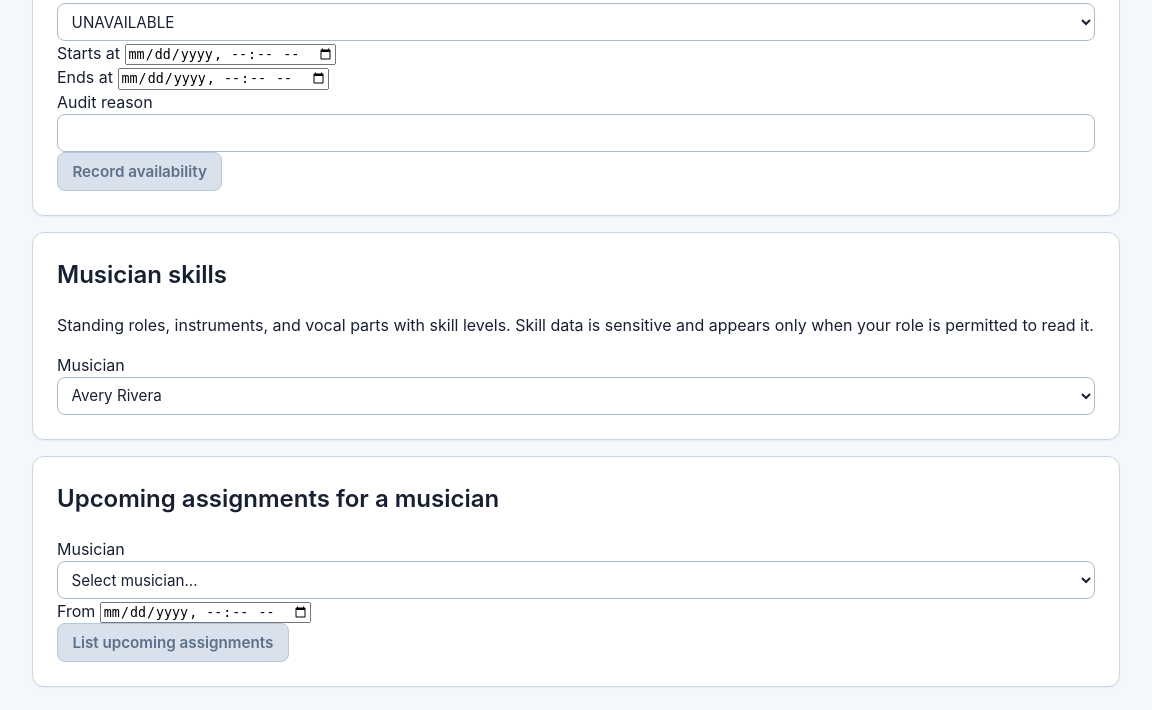
Test case: Musicians directory › shows a redaction-safe message when skills are not returned
This screenshot has width=1152, height=710.
(page scrolled)
Select "Avery Rivera" in the dropdown with id "skills-musician" at [576, 396], box [57,376,1095,415]
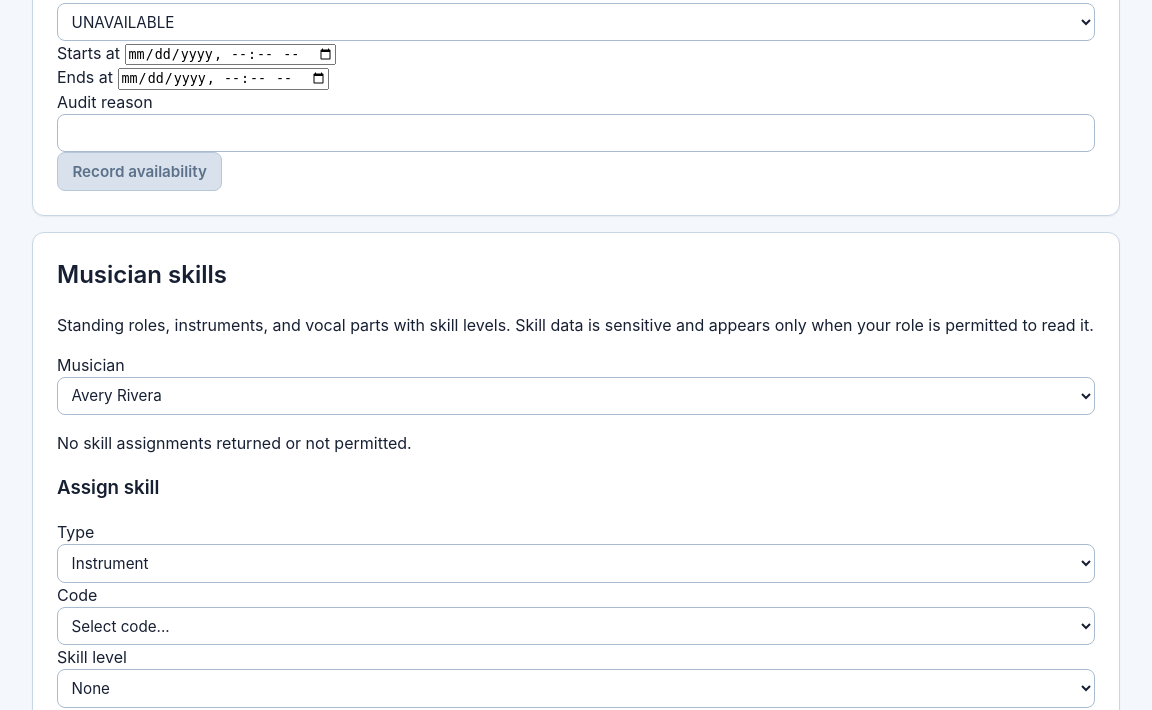
Expected: the text "No skill assignments returned or not permitted." is shown, [57,433,412,453]
